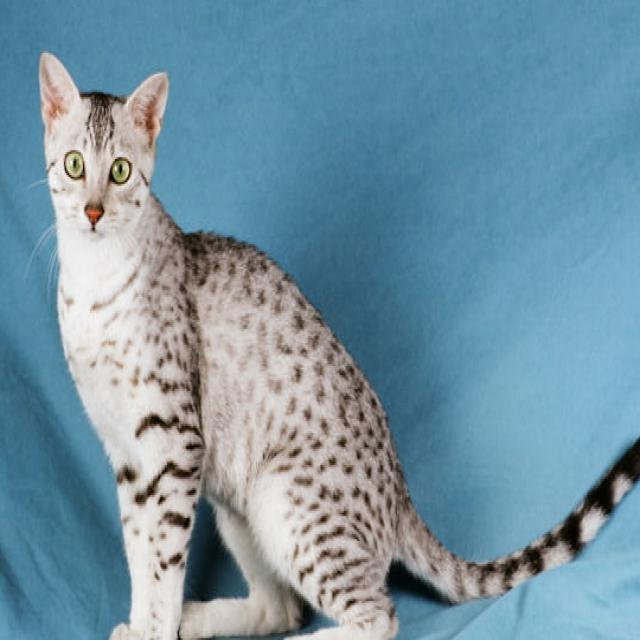Egyptian Mau: (35, 42, 640, 639)
